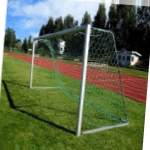goals: (28, 23, 132, 138)
